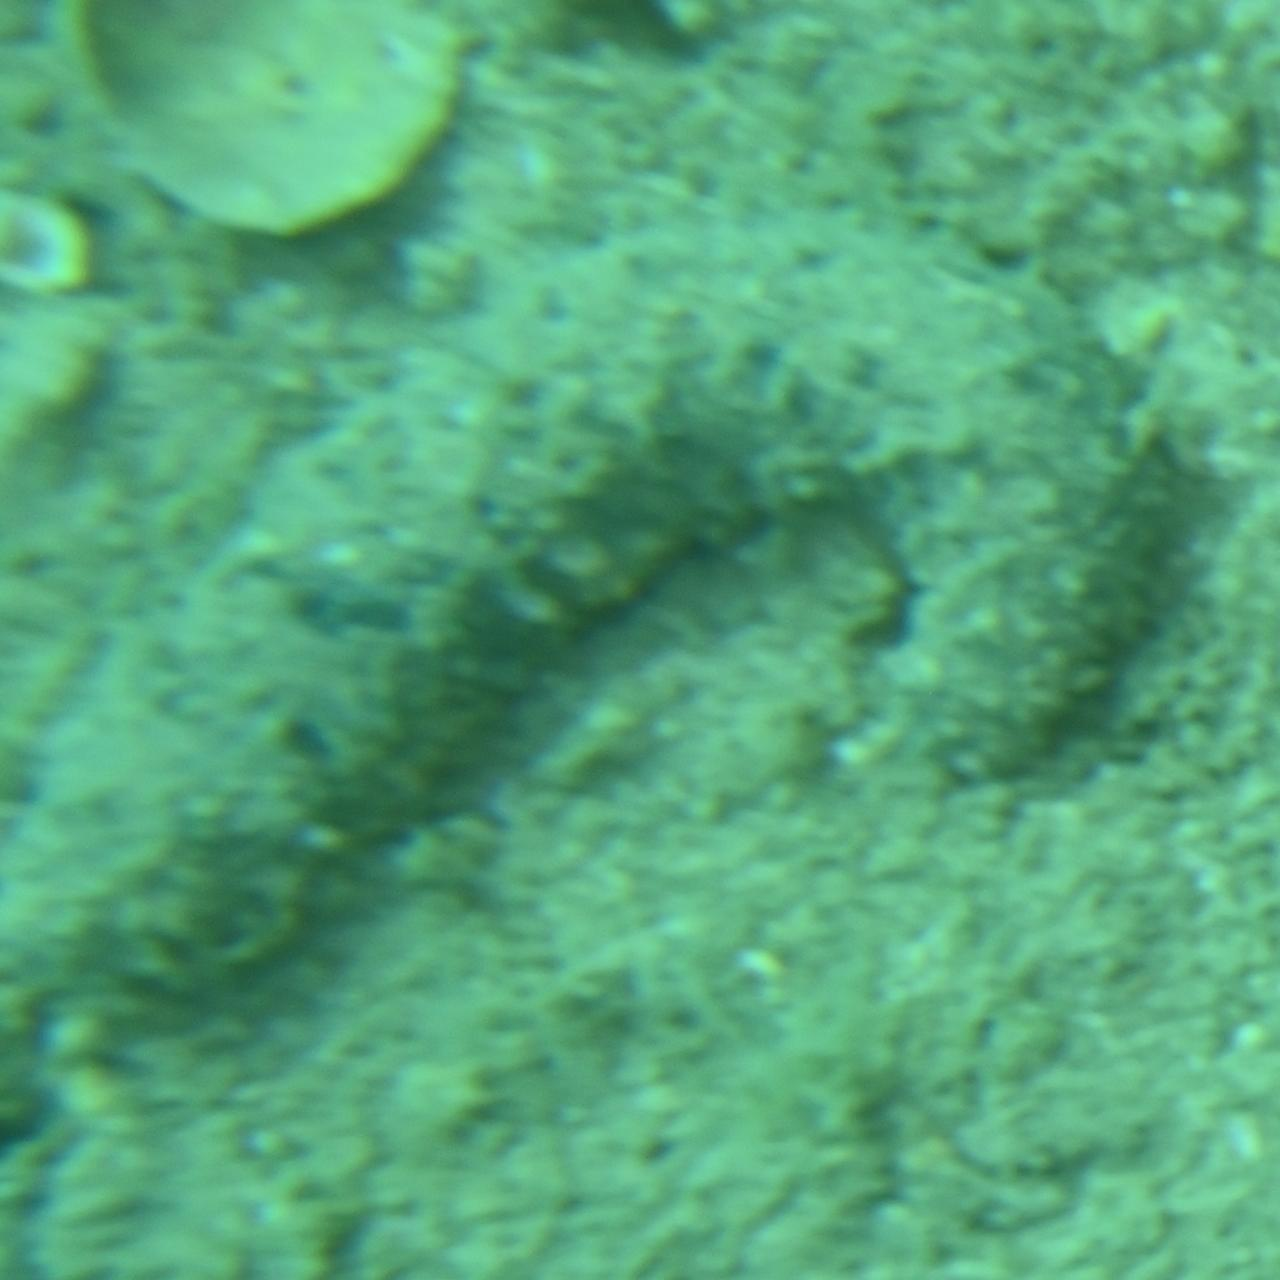Holothuria tubulosa: (0, 200, 1200, 1080)
